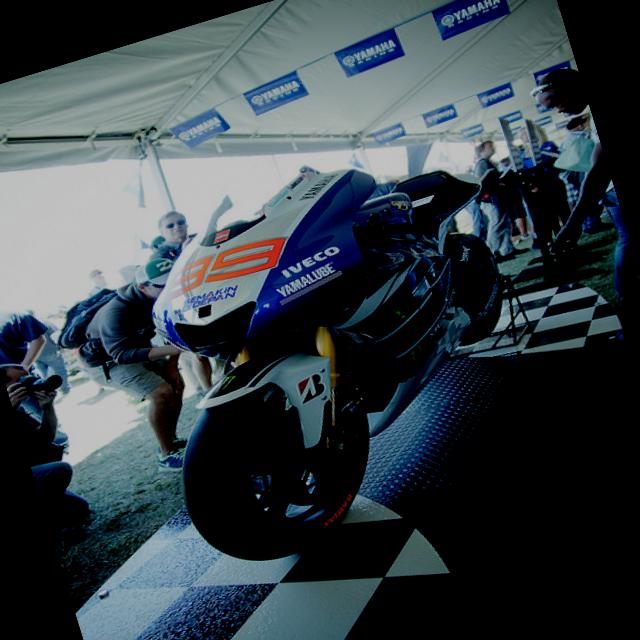Vehicle: (100, 111, 588, 580)
